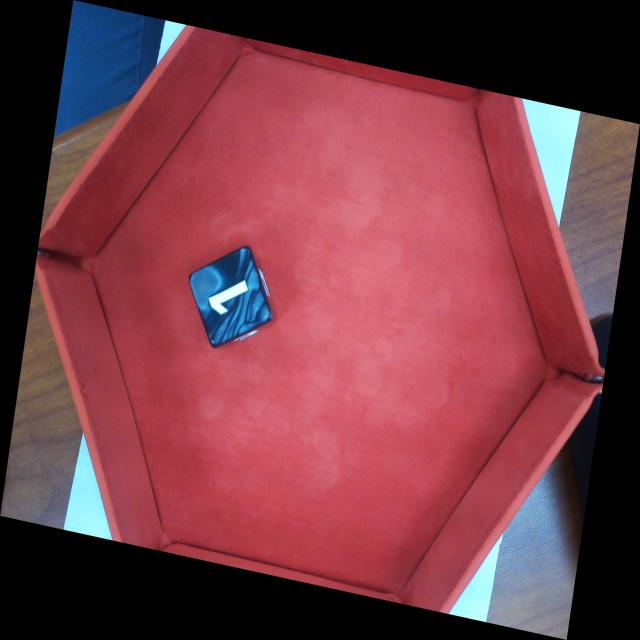dice: (194, 250, 268, 344)
